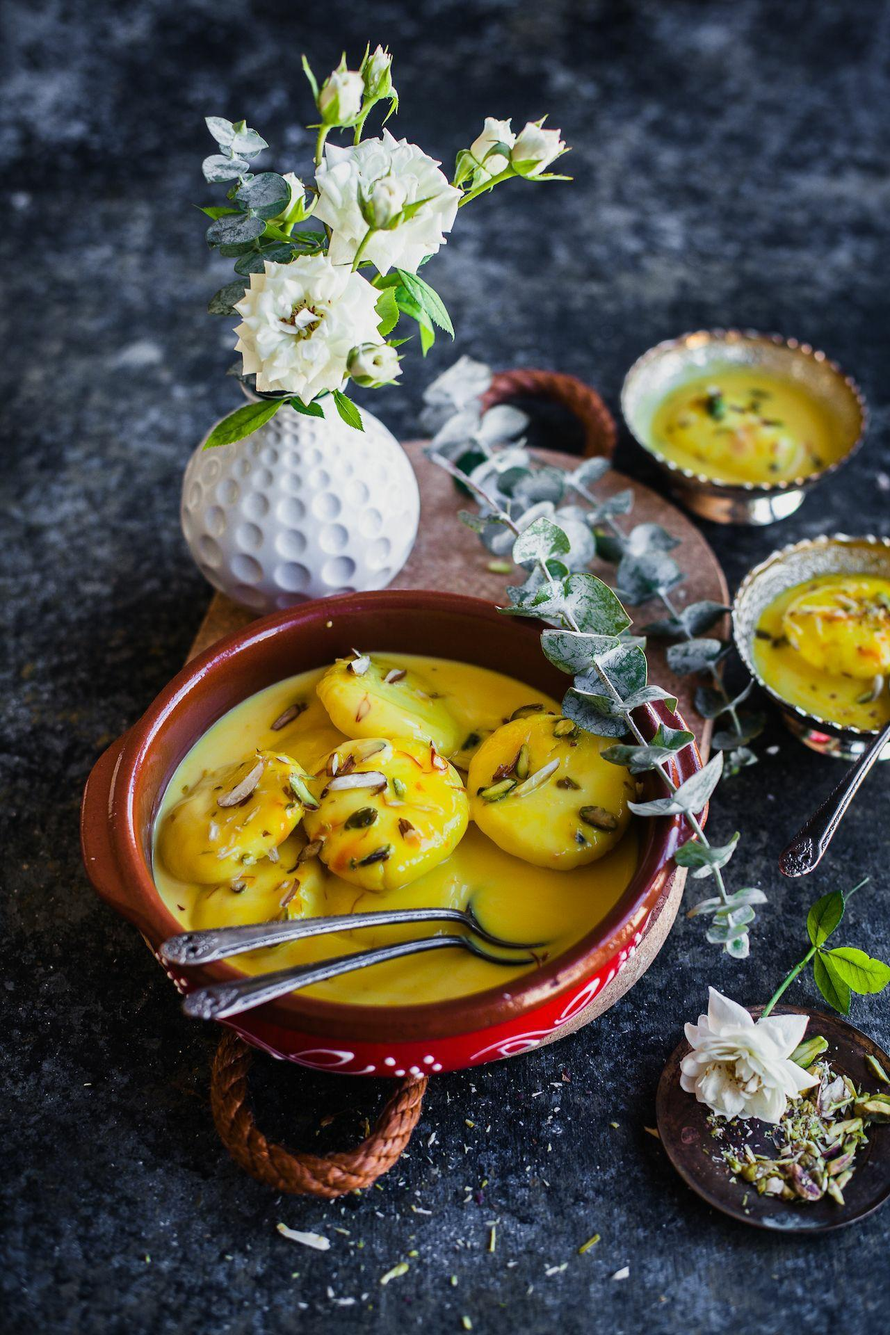RasMalai: (145, 647, 645, 1006)
